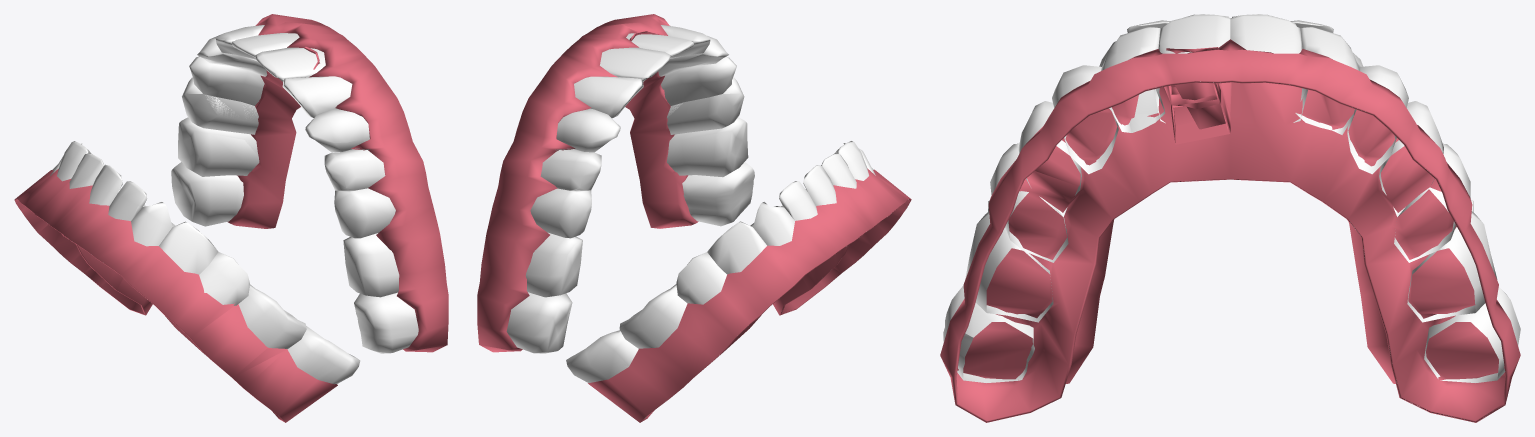
The model's file is Teeth.fbx.
The picture shows the model from 3 angles, left to right: view 1: azimuth 30°, elevation 25°; view 2: azimuth 150°, elevation 25°; view 3: azimuth 270°, elevation 25°; orthographic projection. The views are drawn at different scales.
Visible parts, largest first — view 1: DientesB01, DientesGumsB02, DientesA04, DientesGumsB04, DientesGums, DientesGumsA02, DientesGumsB03, DientesGumsA04, DientesA01, Dientes, DientesA02, DientesB02; view 2: DientesB01, DientesGumsB02, DientesA04, DientesGumsB04, DientesGums, DientesGumsB03, DientesB04, DientesGumsA03, DientesA02, Dientes; view 3: DientesGumsB04, DientesB01, DientesGumsA03, DientesGumsB01, DientesGumsA02, DientesGumsB02, DientesGumsA04, DientesGumsA05, DientesA01.
Part boxes in pixels (x1,y1,x2,y2): DientesB01: (50, 25, 418, 371); DientesGumsB02: (15, 14, 446, 420); DientesA04: (81, 38, 392, 383); DientesGumsB04: (49, 14, 448, 414); DientesGums: (14, 20, 446, 422); DientesGumsA02: (15, 200, 448, 421); DientesGumsB03: (231, 75, 419, 331); DientesGumsA04: (27, 25, 426, 355); DientesA01: (223, 176, 418, 375); Dientes: (238, 284, 306, 346); DientesA02: (136, 108, 417, 384); DientesB02: (205, 66, 377, 291); DientesB01: (506, 25, 875, 371); DientesGumsB02: (480, 14, 910, 420); DientesA04: (533, 38, 789, 382); DientesGumsB04: (477, 14, 876, 383); DientesGums: (479, 20, 911, 422); DientesGumsB03: (499, 71, 761, 354); DientesB04: (574, 55, 722, 216); DientesGumsA03: (477, 207, 886, 376); DientesA02: (507, 108, 844, 418); Dientes: (525, 176, 807, 374); DientesGumsB04: (940, 49, 1520, 420); DientesB01: (943, 14, 1520, 406); DientesGumsA03: (954, 80, 1511, 422); DientesGumsB01: (953, 80, 1508, 419); DientesGumsA02: (940, 80, 1514, 422); DientesGumsB02: (950, 39, 1510, 403); DientesGumsA04: (1171, 83, 1229, 144); DientesGumsA05: (987, 47, 1487, 311); DientesA01: (943, 16, 1505, 379).
Size of the model in its own units: 5.06 by 4.9 by 6.25.
